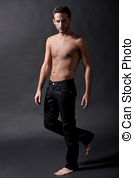face: (51, 6, 73, 35)
